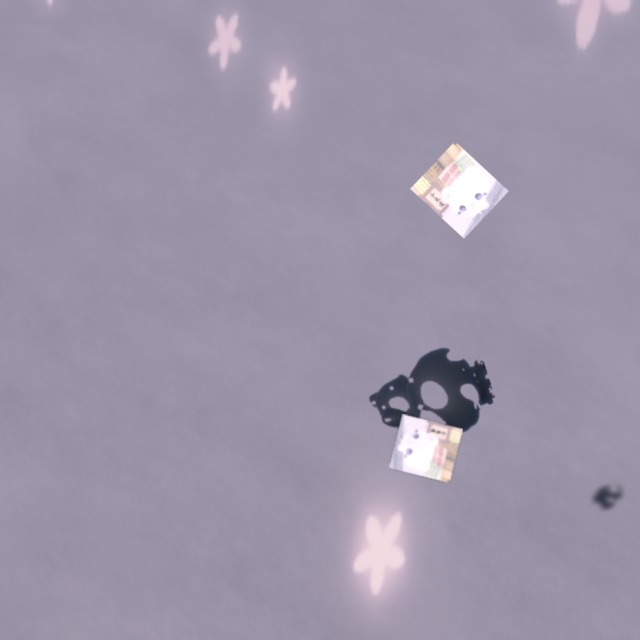urso_branco: (410, 141, 509, 239), (389, 414, 463, 483)
urso_preto: (350, 328, 504, 463), (584, 475, 633, 519)
